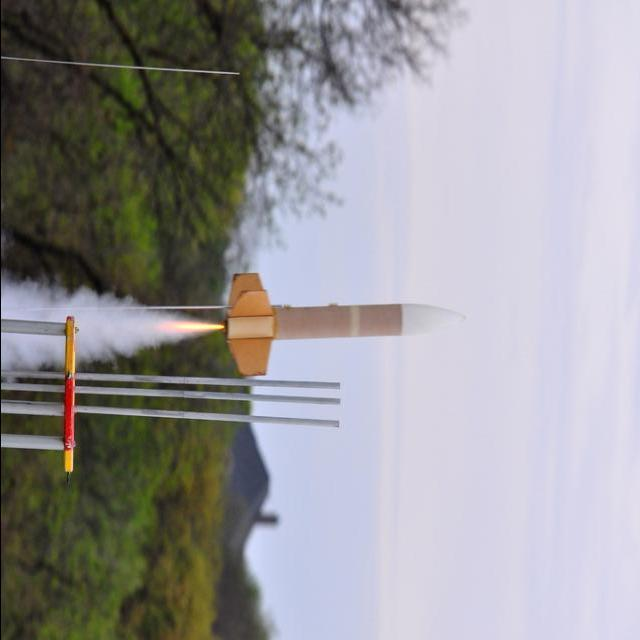missile: (219, 263, 465, 381)
